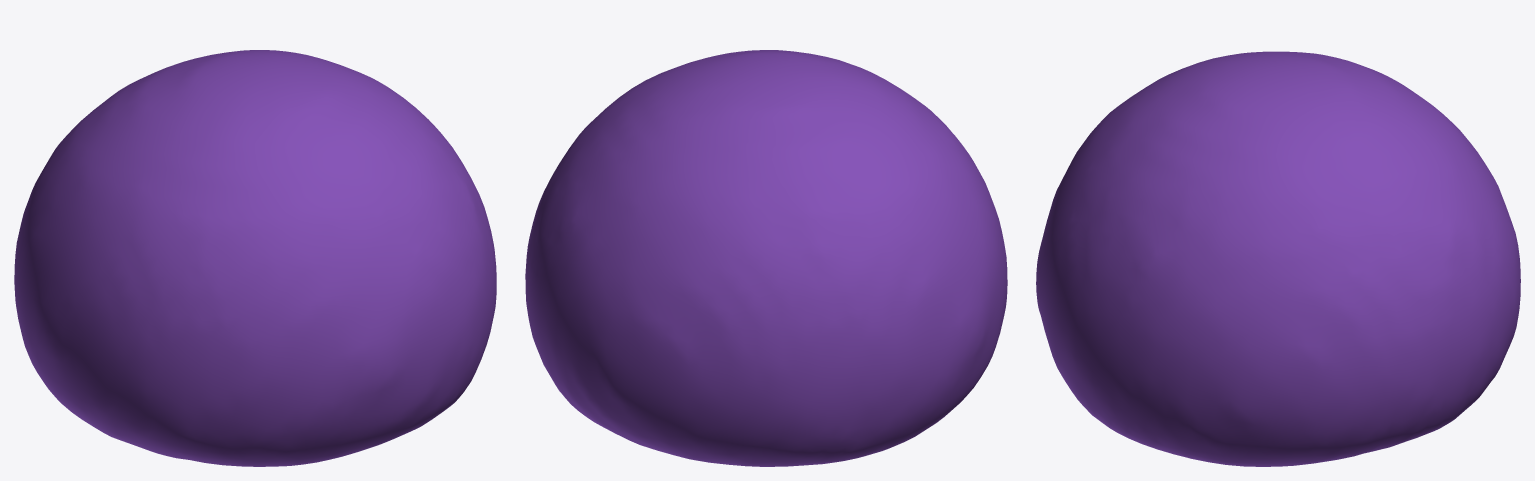
Rendered from slime_0012.dae.
3 renders of one model, left to right at view 1: azimuth 30°, elevation 25°; view 2: azimuth 150°, elevation 25°; view 3: azimuth 270°, elevation 25°, orthographic.
Parts seen in each view (by area): view 1: Slime; view 2: Slime; view 3: Slime.
Boxes of the visible parts, x1=… form: Slime: x1=14, y1=50, x2=496, y2=466; Slime: x1=525, y1=50, x2=1007, y2=466; Slime: x1=1036, y1=51, x2=1520, y2=466.
Size of the model in its own units: 2.06 by 1.84 by 2.06.
